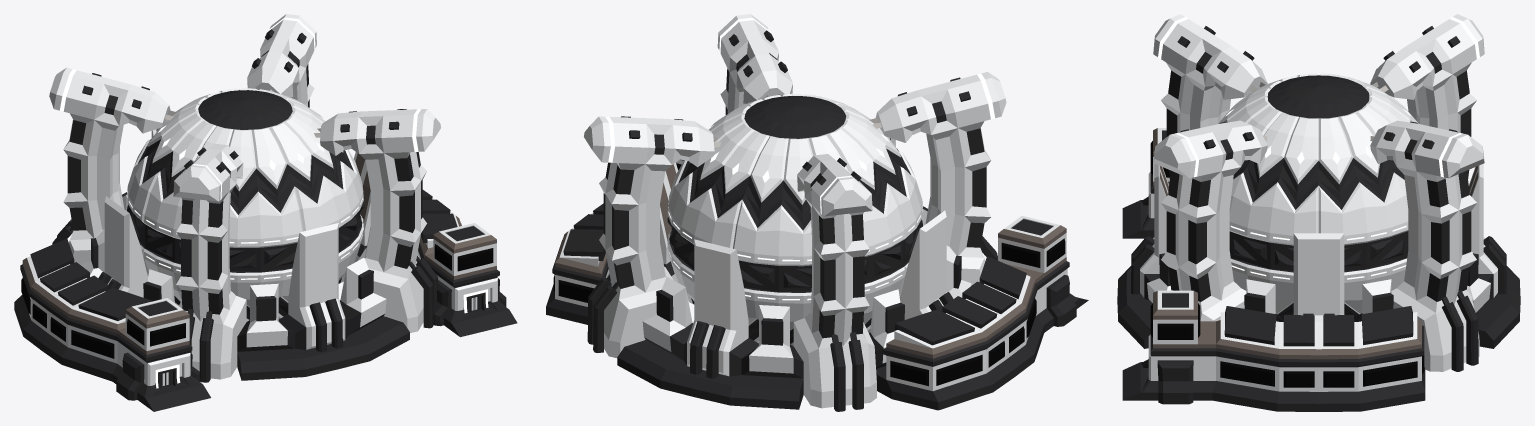
The model's file is atomic-core.glb.
The picture shows the model from 3 angles, left to right: view 1: azimuth 30°, elevation 25°; view 2: azimuth 150°, elevation 25°; view 3: azimuth 270°, elevation 25°; orthographic projection. The views are drawn at different scales.
Parts seen in each view (by area): view 1: AtomicCore_Body, AtomicCore_Core, AtomicCore_Parts; view 2: AtomicCore_Body, AtomicCore_Core, AtomicCore_Parts; view 3: AtomicCore_Body, AtomicCore_Core, AtomicCore_Parts.
Part boxes in pixels (x1=…): AtomicCore_Body: x1=14, y1=14, x2=517, y2=411; AtomicCore_Core: x1=127, y1=88, x2=363, y2=321; AtomicCore_Parts: x1=52, y1=219, x2=437, y2=382; AtomicCore_Body: x1=546, y1=14, x2=1088, y2=410; AtomicCore_Core: x1=667, y1=93, x2=922, y2=345; AtomicCore_Parts: x1=587, y1=236, x2=997, y2=411; AtomicCore_Body: x1=1117, y1=14, x2=1520, y2=411; AtomicCore_Core: x1=1218, y1=73, x2=1418, y2=321; AtomicCore_Parts: x1=1131, y1=236, x2=1506, y2=371.
Size of the model in its own units: 5661 by 3071 by 4482.
1 material, 1 textured.
